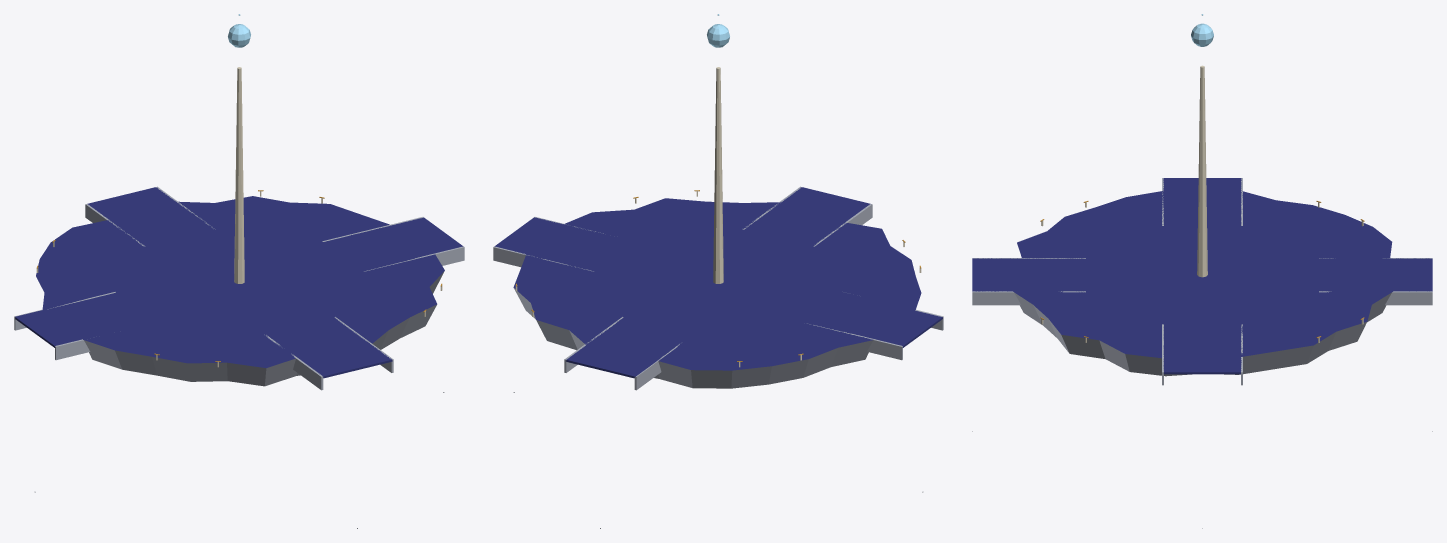
The model's file is chunk_es_convergence.fbx.
3 renders of one model, left to right at view 1: azimuth 30°, elevation 25°; view 2: azimuth 150°, elevation 25°; view 3: azimuth 270°, elevation 25°, orthographic. The views are drawn at different scales.
Visible parts, largest first — view 1: ES_CONVERGENCE; view 2: ES_CONVERGENCE; view 3: ES_CONVERGENCE.
Boxes of the visible parts, x1=… form: ES_CONVERGENCE: x1=14, y1=14, x2=464, y2=528; ES_CONVERGENCE: x1=493, y1=14, x2=943, y2=528; ES_CONVERGENCE: x1=972, y1=14, x2=1432, y2=528.
Bounding box in the file's own units: 256 × 256 × 256.
